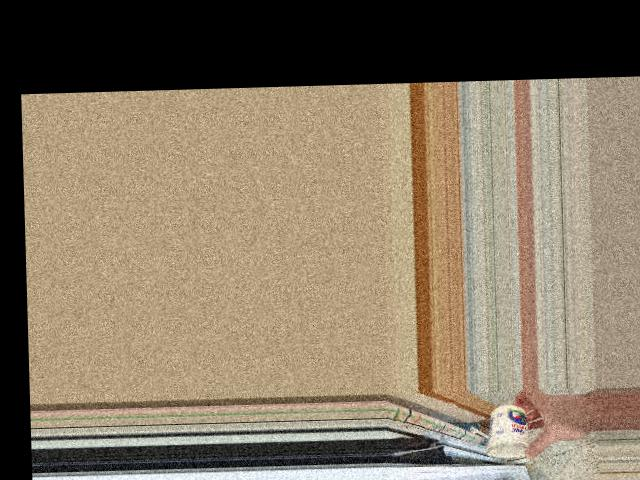cotage: (483, 400, 529, 456)
